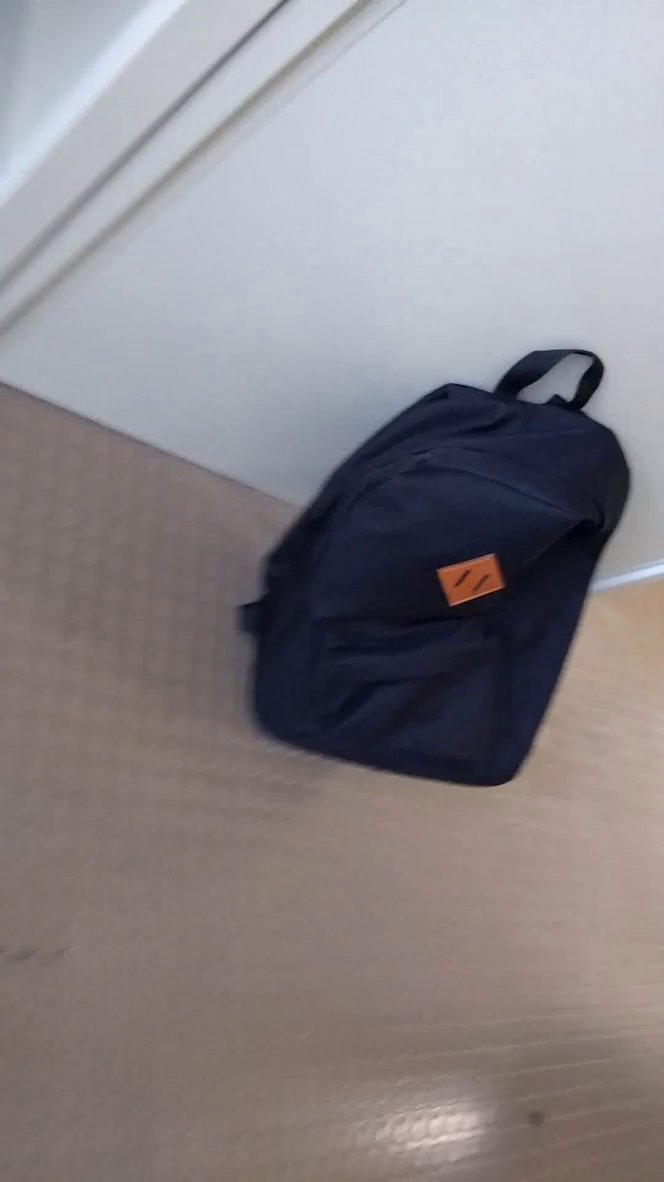bag: (227, 339, 643, 817)
